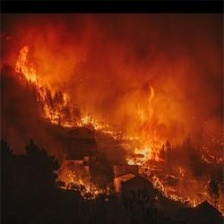fire: (13, 54, 218, 204)
